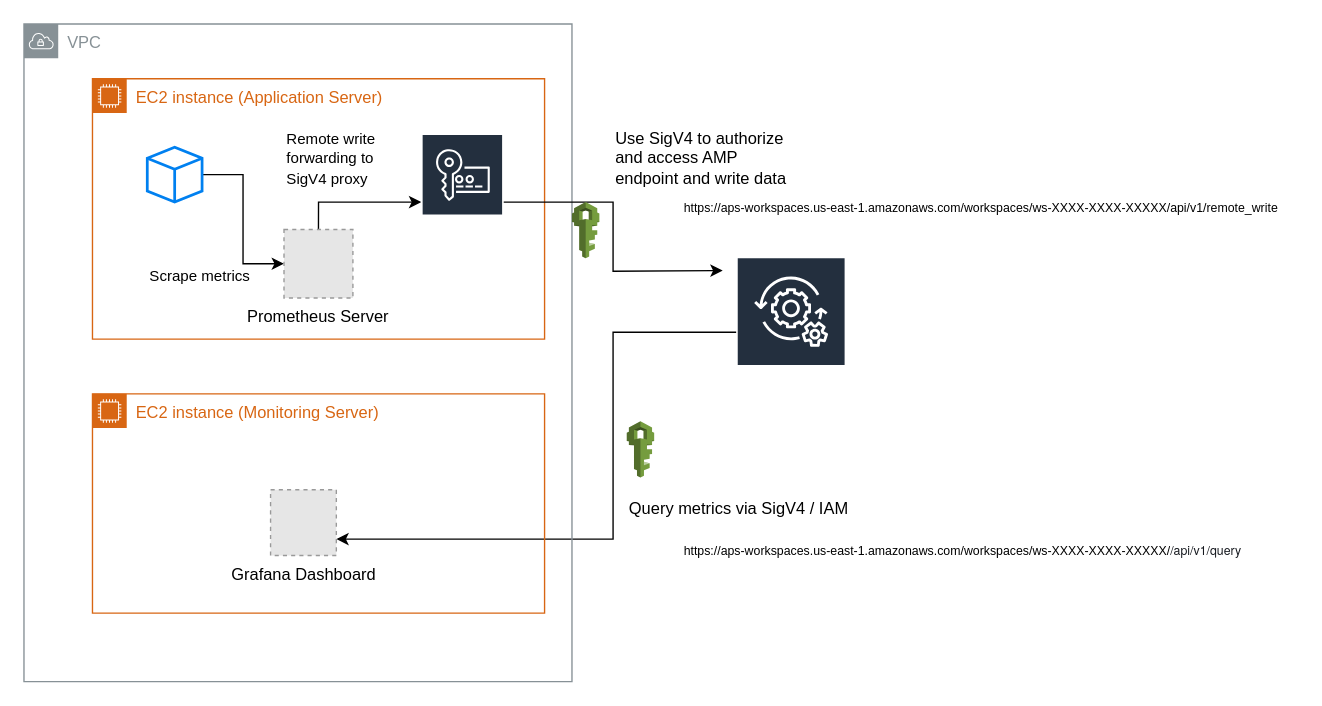
Image size: 1322x706. Some labels were removed from this diagram. Grey dashed boxes stand in for pictures. Here are the shapes that lost their labels. From the top down, the centre of each, then its label:
At [174,174]: "App (Go)".
At [461,201]: "AWS SigV4 Proxy".
At [790,332]: "AWS Prometheus".
